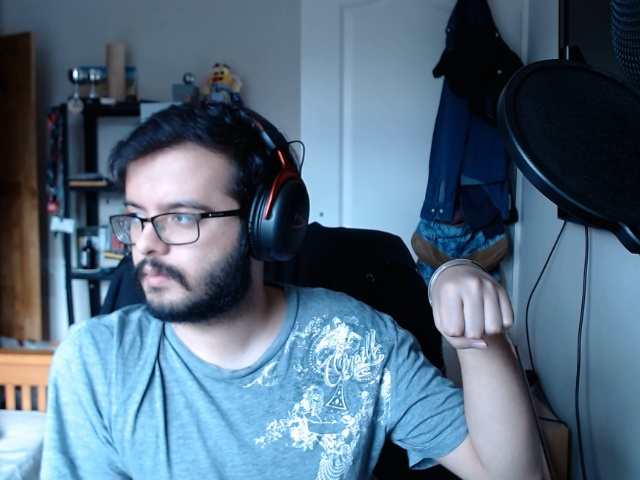Yes: (426, 264, 517, 351)
